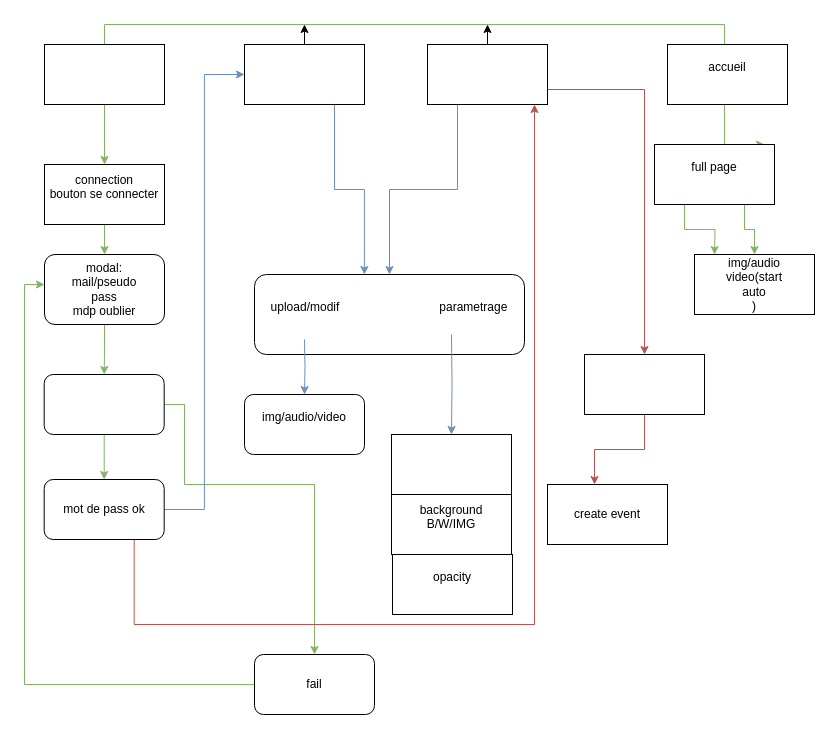
Some shapes in this 832 by 732 pixel diagram are drawn without their labels. The shapes that lost their labels are listed below. From the top down, each one's centre as x and y in pixels, then its label:
At pixel 104 74: "visitor".
At pixel 304 74: "register user".
At pixel 487 74: "super user".
At pixel 103 404: "saisie".
At pixel 644 384: "leveller user".
At pixel 451 464: "format vignettes".
